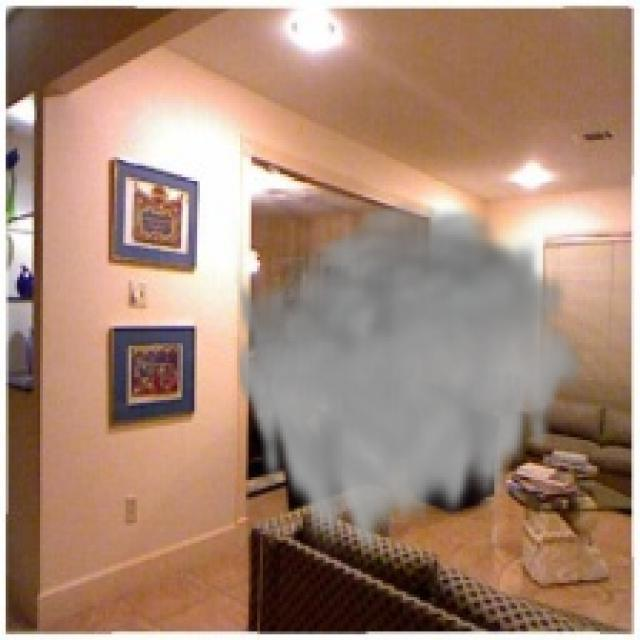Smoke: (232, 194, 588, 569)
